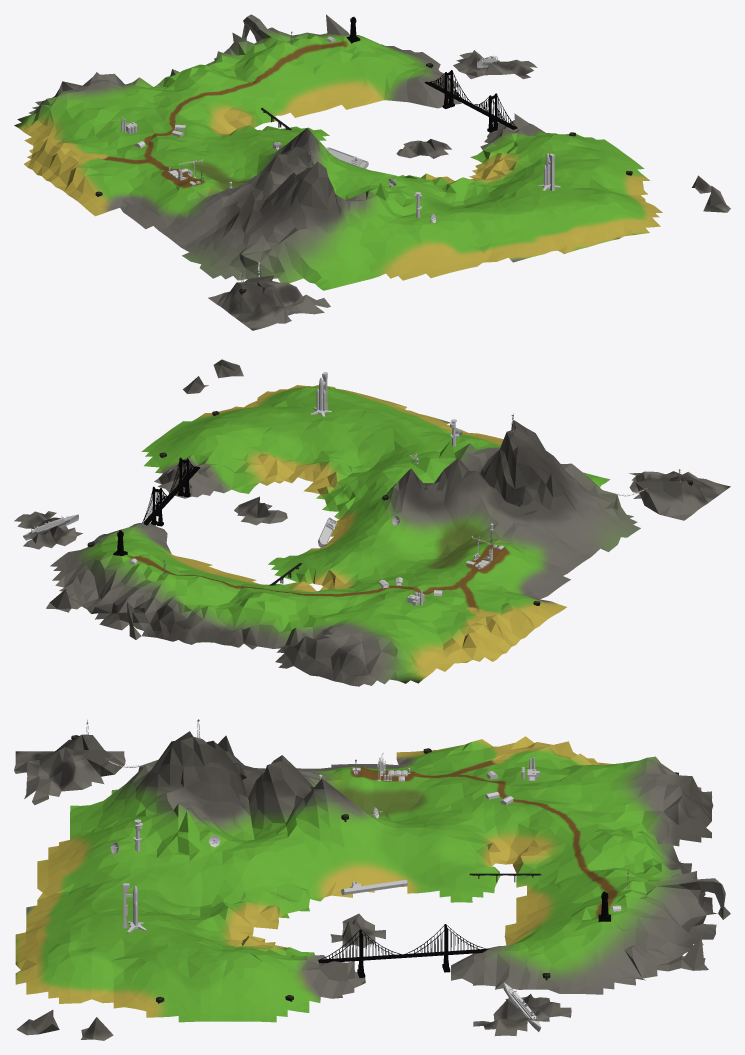
Rendered from newMap.obj.
The picture shows the model from 3 angles, top to bottom: view 1: azimuth 30°, elevation 25°; view 2: azimuth 150°, elevation 25°; view 3: azimuth 270°, elevation 25°; orthographic projection. The views are drawn at different scales.
Visible parts, largest first — view 1: Plane.006, Cube.002_Cube.024; view 2: Plane.006, Cube.002_Cube.024; view 3: Plane.006, Cube.002_Cube.024.
Boxes of the visible parts, x1=… form: Plane.006: x1=14, y1=14, x2=730, y2=330; Cube.002_Cube.024: x1=424, y1=70, x2=517, y2=132; Plane.006: x1=14, y1=359, x2=730, y2=686; Cube.002_Cube.024: x1=142, y1=457, x2=200, y2=526; Plane.006: x1=14, y1=731, x2=730, y2=1040; Cube.002_Cube.024: x1=318, y1=924, x2=488, y2=977.
Size of the model in its own units: 314 by 62.33 by 328.
Materials: 4 (3 with a texture image).
